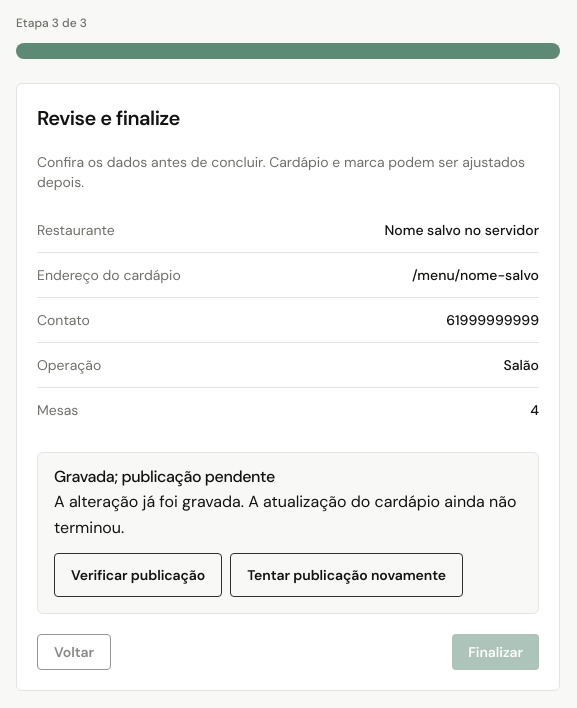
Test: a committed finalization stays pending until an explicit ready receipt and never creates another restaurant
The image size is (577, 708).
Earlier steps of the test are not shown.
Expected: the heading "Gravada; publicação pendente" is shown, [54,466,275,487]
Expected: the heading "Operação pronta" is not shown
Click the button "Verificar publicação".
click(138, 575)  # box [54,553,222,597]
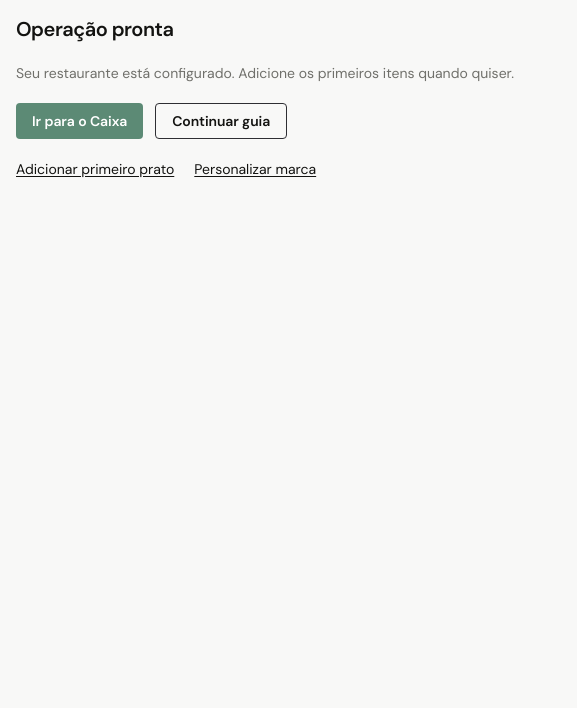
Result: the heading "Operação pronta" is shown at [16,16,173,42]
